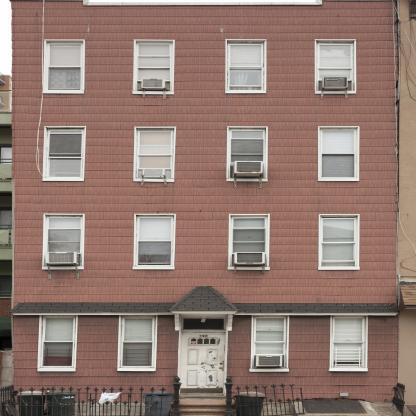Building Outline: (9, 0, 397, 402)
Door: (181, 332, 225, 393)
Facade: (12, 0, 398, 402)
Floor: (13, 203, 397, 302), (13, 113, 397, 195)
Floor Slab: (13, 105, 398, 113), (13, 303, 398, 311), (13, 195, 398, 203)
Ground Floor: (13, 310, 397, 403)
Roof: (9, 286, 400, 316)
Top Floor: (13, 6, 397, 105)
Window: (316, 40, 354, 91), (227, 40, 265, 91), (46, 127, 84, 178), (136, 128, 174, 179), (135, 41, 173, 91), (120, 316, 157, 367), (320, 128, 357, 179), (229, 127, 266, 178), (321, 216, 358, 267), (136, 216, 173, 267), (231, 216, 268, 267), (46, 215, 82, 266), (46, 41, 83, 90), (253, 316, 287, 368), (42, 316, 76, 367), (333, 317, 366, 368), (181, 316, 225, 332)
